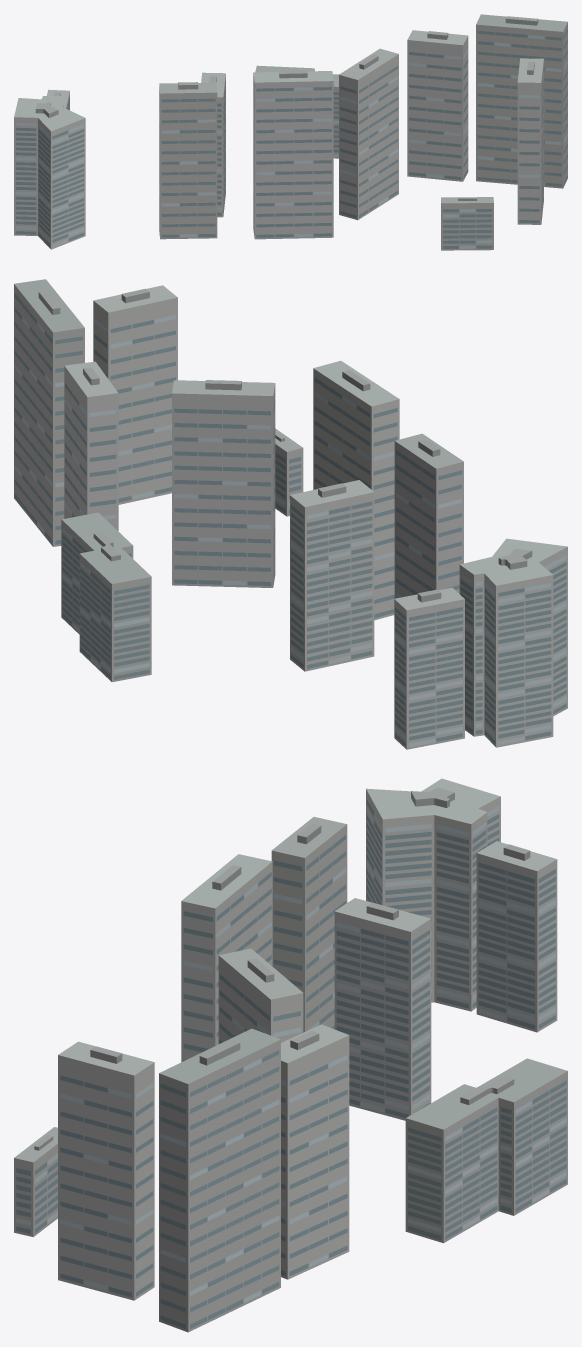
Rendered from apt-a10026104.glb.
3 renders of one model, top to bottom at view 1: azimuth 30°, elevation 25°; view 2: azimuth 150°, elevation 25°; view 3: azimuth 270°, elevation 25°, orthographic. The views are drawn at different scales.
Visible parts, largest first — view 1: apt-a10026104; view 2: apt-a10026104; view 3: apt-a10026104.
Part boxes in pixels (x1,y1,x2,y2): apt-a10026104: (14,14,567,250); apt-a10026104: (14,279,567,749); apt-a10026104: (14,778,567,1332).
Bounding box in the file's own units: 271 × 88 × 173.
